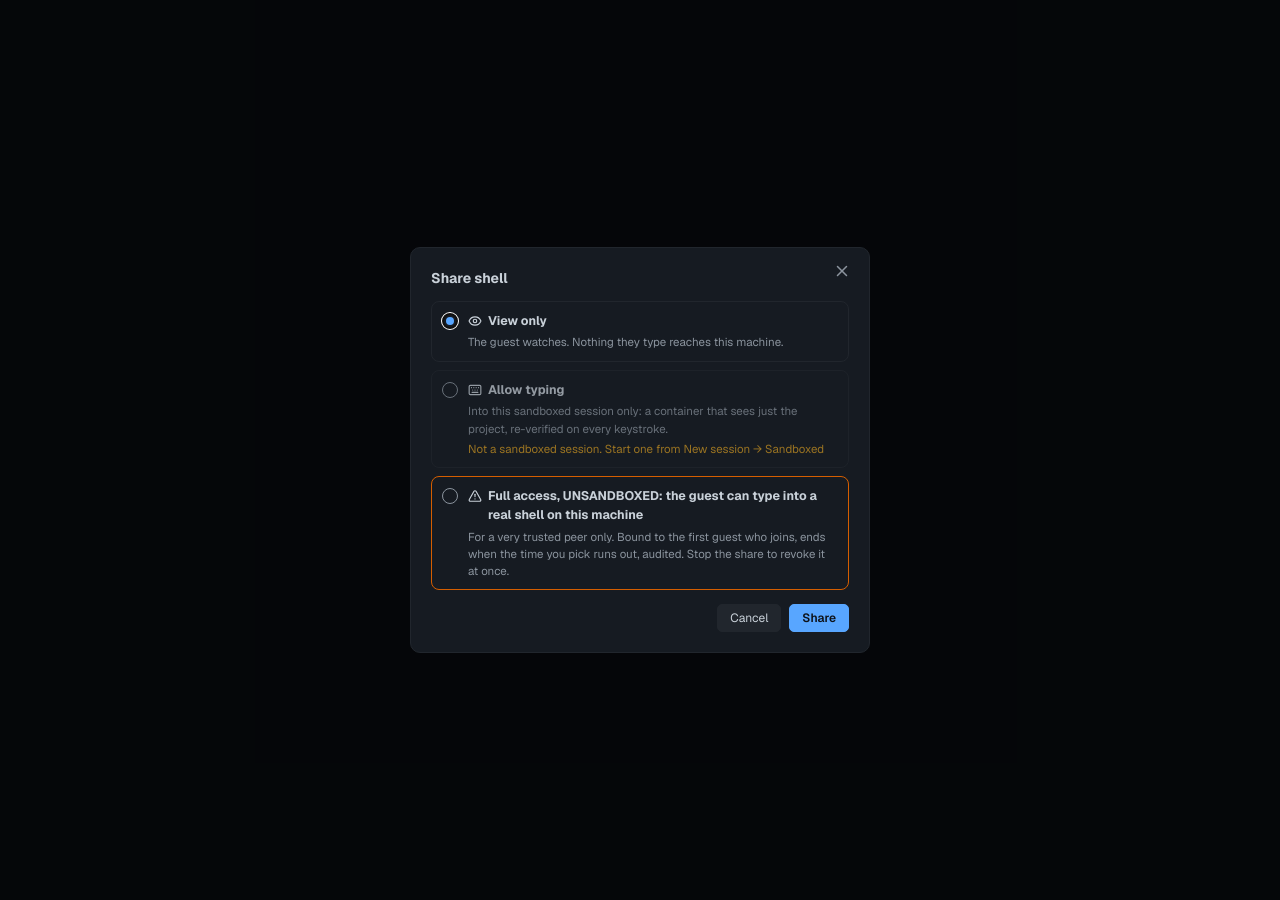
Test case: the picker preselects the configured default and lists the server choices
Click the 3rd radio button named "UNSANDBOXED" at x=450, y=496, box [442, 488, 458, 504]
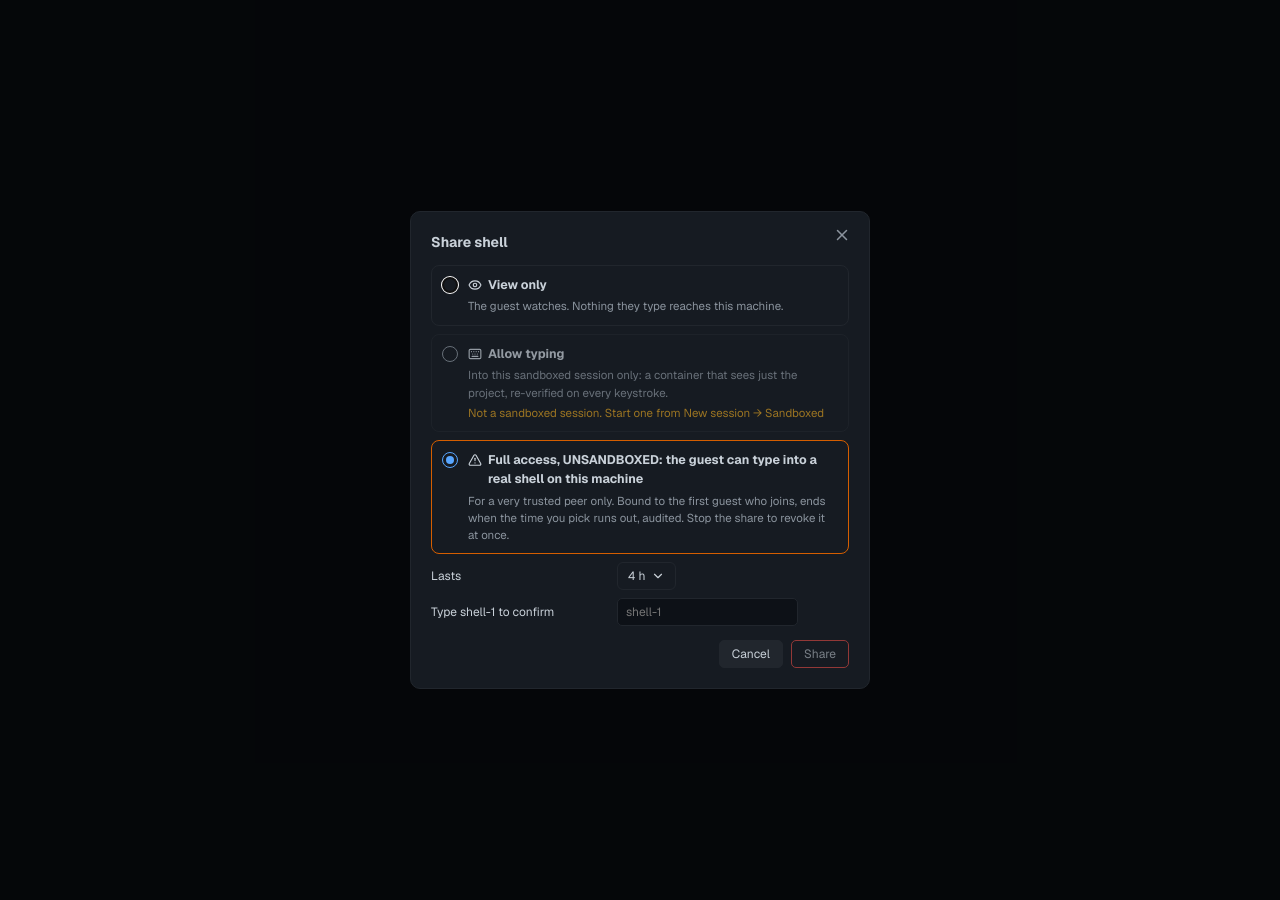
Check: the dropdown named "How long full access lasts" reads "4 h"
Press Enter in the dropdown named "How long full access lasts", box [617, 562, 676, 590]
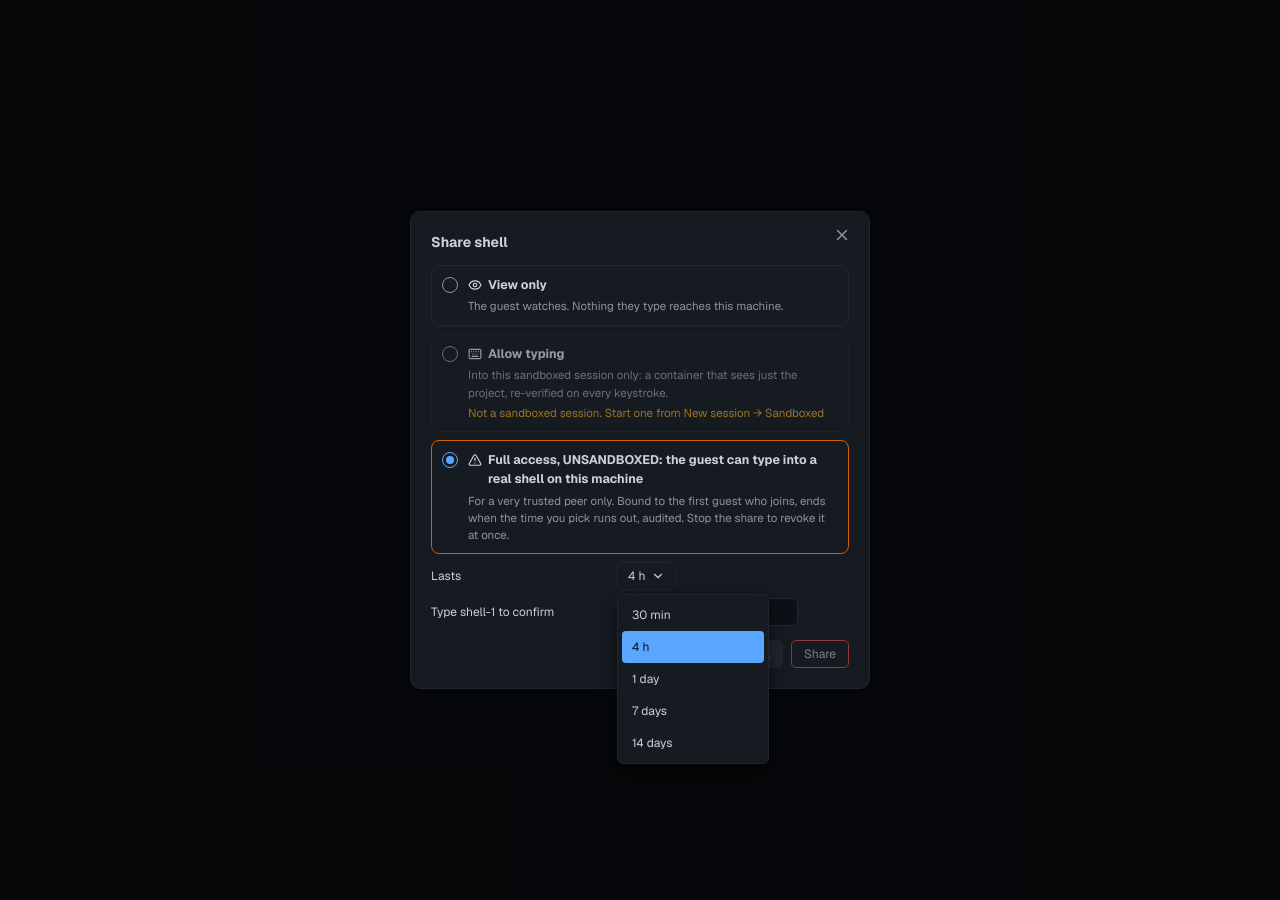
Check: the options read "30 min", "4 h", "1 day", "7 days", "14 days", in this order, box [632, 607, 671, 623]; [622, 631, 764, 663]; [632, 671, 659, 687]; [632, 703, 667, 719]; [632, 735, 672, 751]
